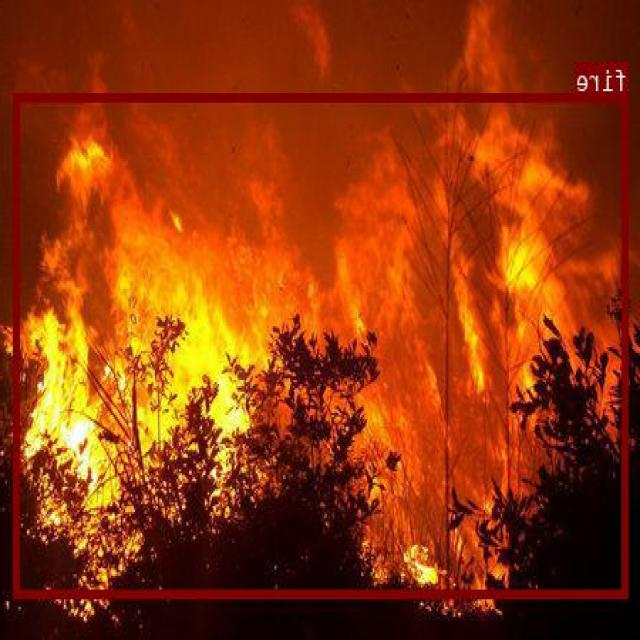fire: (14, 93, 628, 597)
